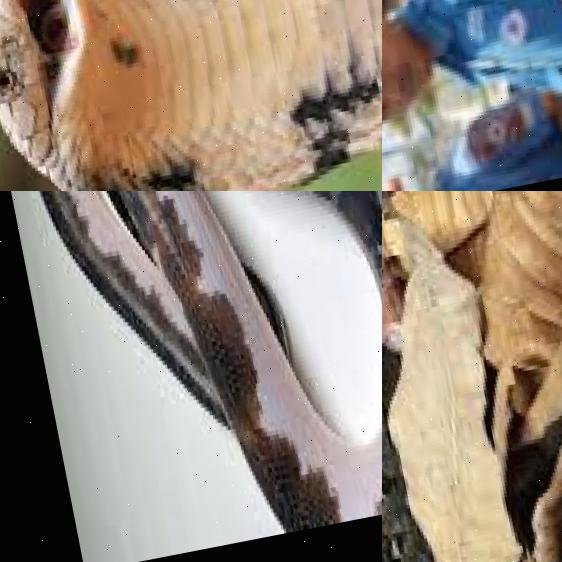snake: (37, 191, 382, 562), (0, 0, 382, 191), (382, 191, 562, 562)
